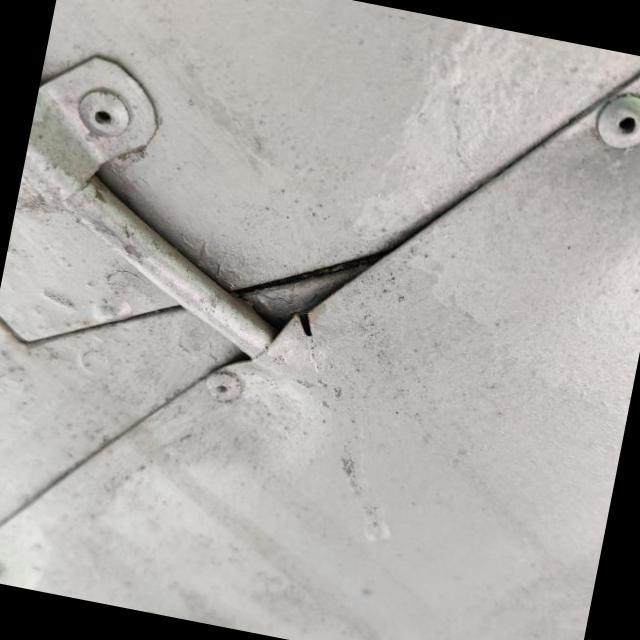Rupture: (270, 286, 340, 361)
